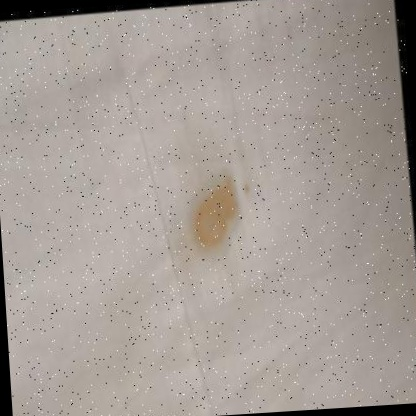kimchi: (181, 171, 249, 255)
